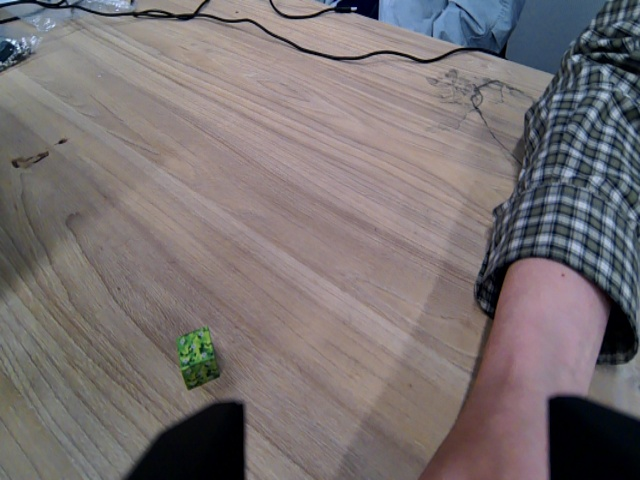grass: (173, 325, 220, 391)
